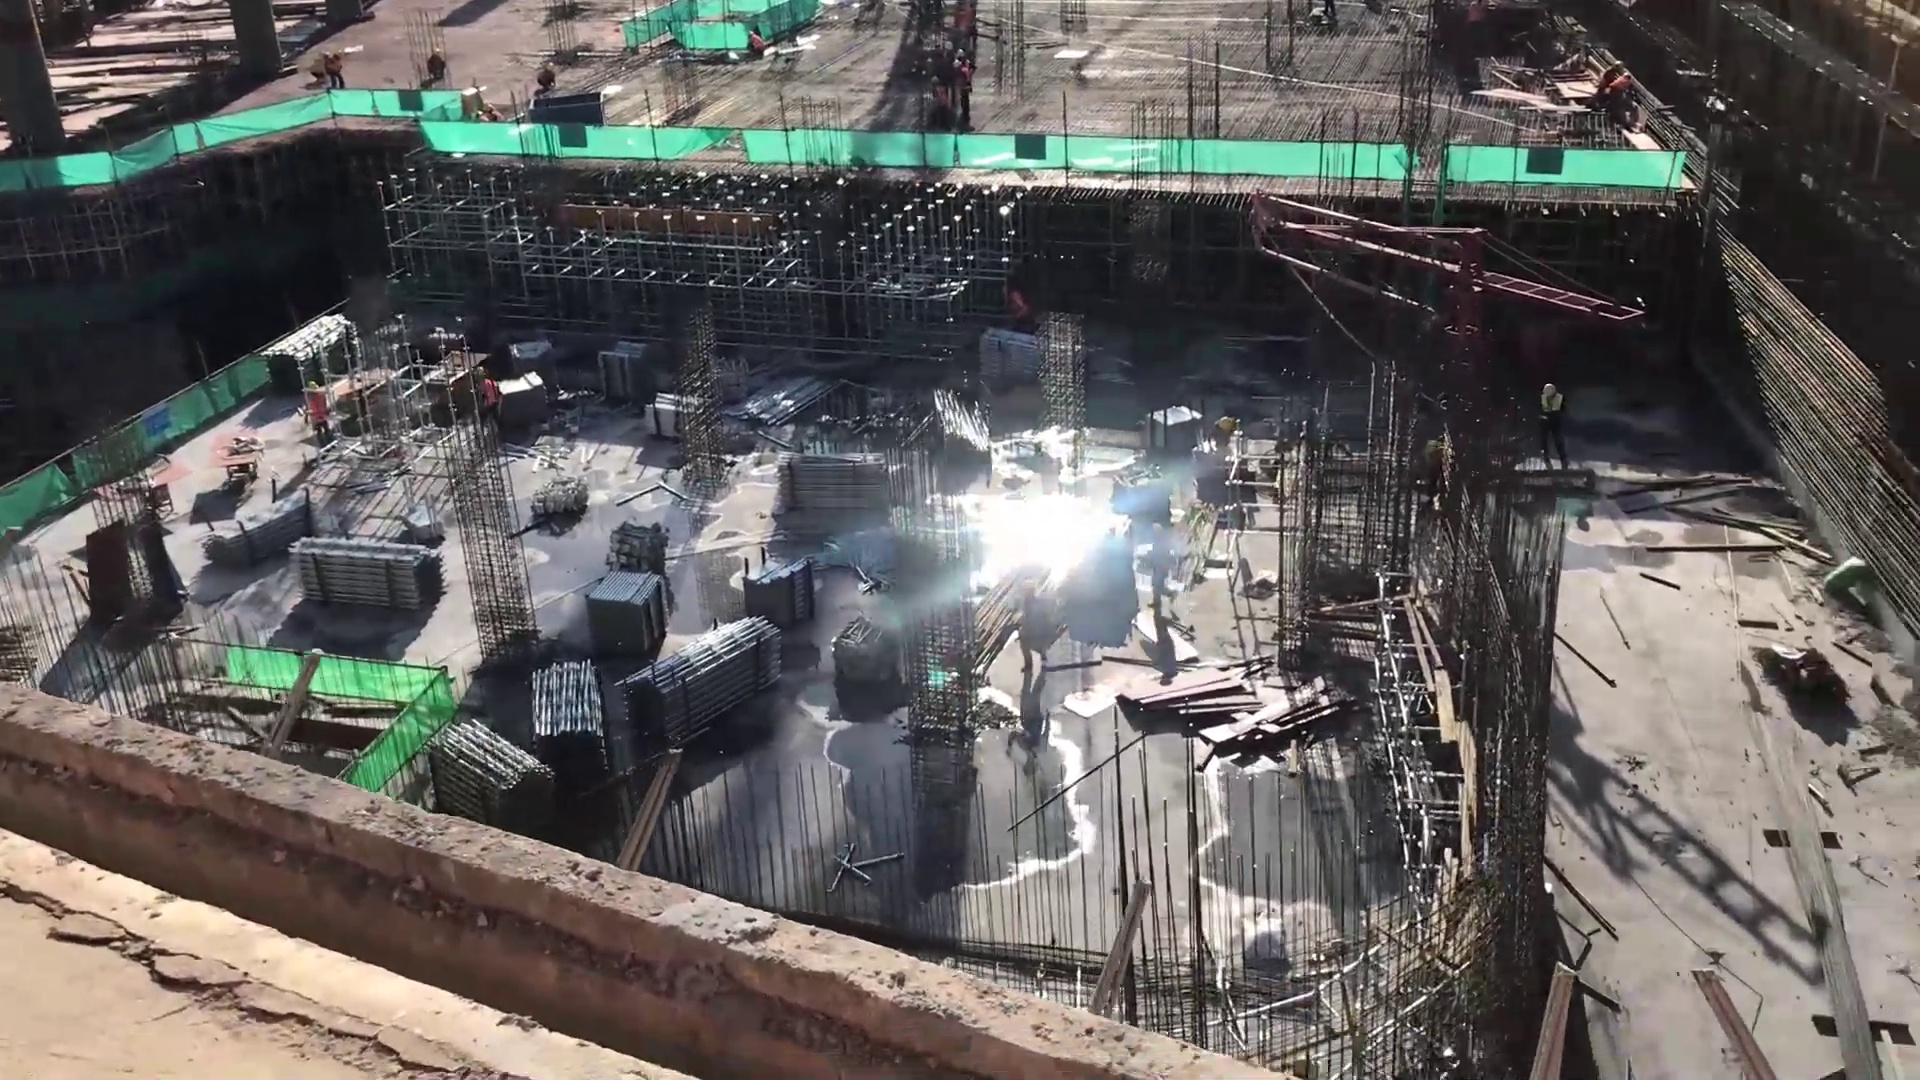helmet: (1541, 383, 1556, 398), (1217, 414, 1232, 430), (952, 57, 963, 67), (944, 40, 955, 50), (956, 48, 965, 57)
person: (1540, 383, 1571, 472), (304, 377, 327, 445), (325, 49, 347, 90), (745, 30, 769, 53), (540, 58, 556, 89)
vest: (306, 394, 327, 422), (1537, 393, 1567, 410), (958, 69, 974, 92), (1610, 74, 1631, 91), (328, 55, 344, 74), (934, 86, 948, 105), (964, 58, 972, 68)
